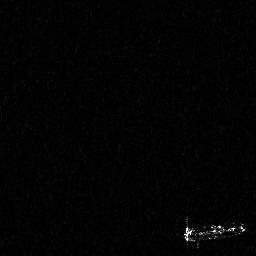ship: (176, 213, 247, 251)
